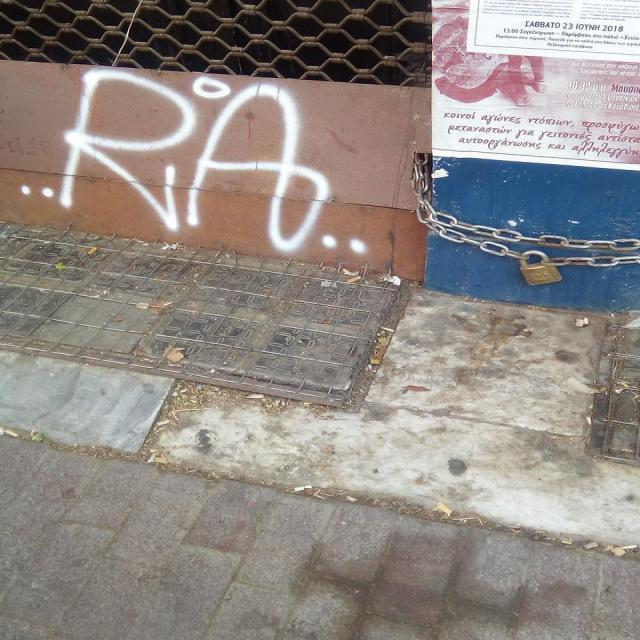nonspitting: (20, 70, 368, 256)
